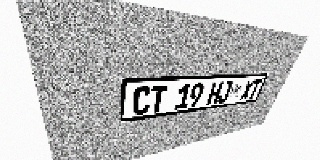1: (174, 83, 193, 110)
9: (187, 83, 205, 108)
C: (132, 86, 152, 116)
H: (206, 82, 224, 105)
J: (216, 81, 233, 104)
T: (149, 85, 168, 113), (247, 79, 263, 99)
X: (239, 80, 255, 100)
